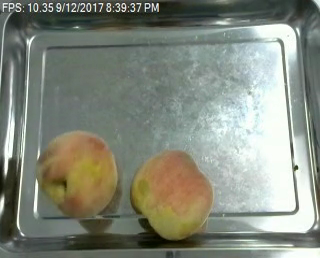Peach: (131, 150, 214, 239), (37, 129, 119, 218)
